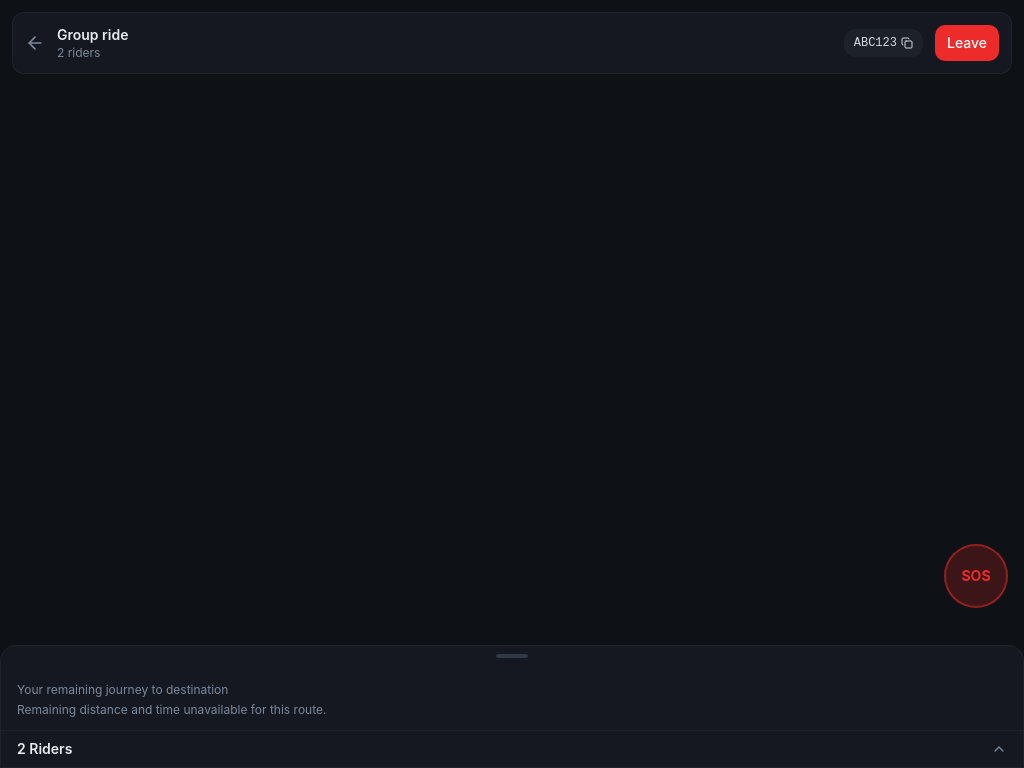
Test: received SOS notifications › sends an off-route alert through the backend instead of only storing it locally
Click the button named "Show riders".
click(999, 749)  # box [991,741,1007,757]
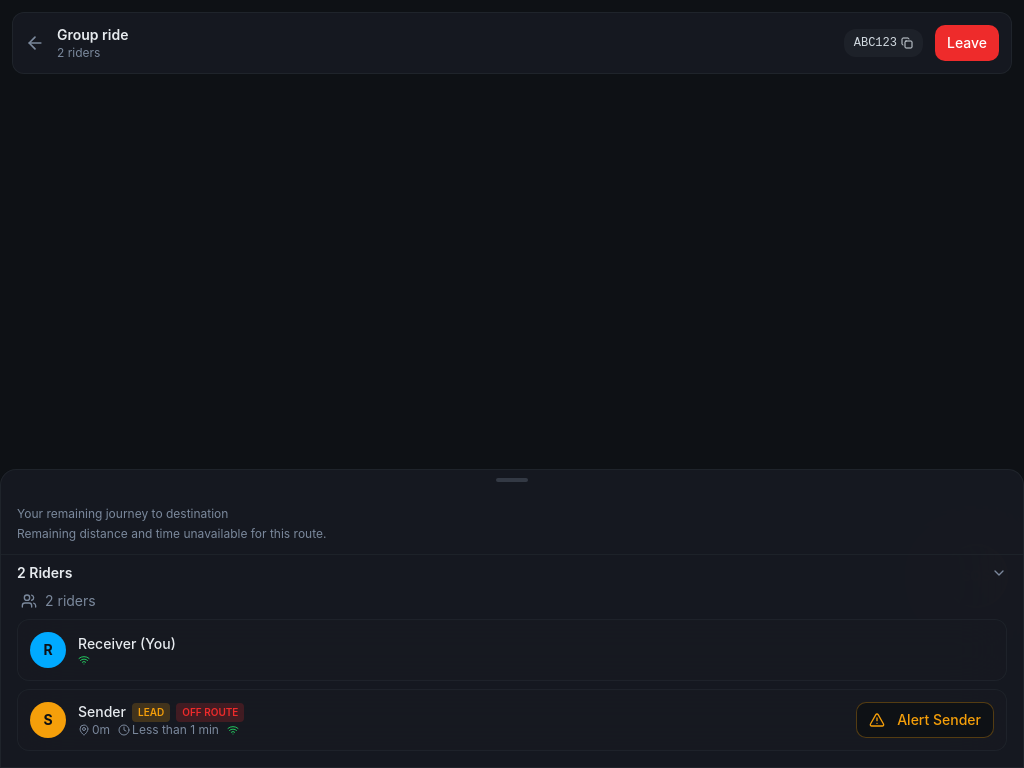
Click the button "Alert Sender".
click(925, 720)  # box [856,702,994,738]
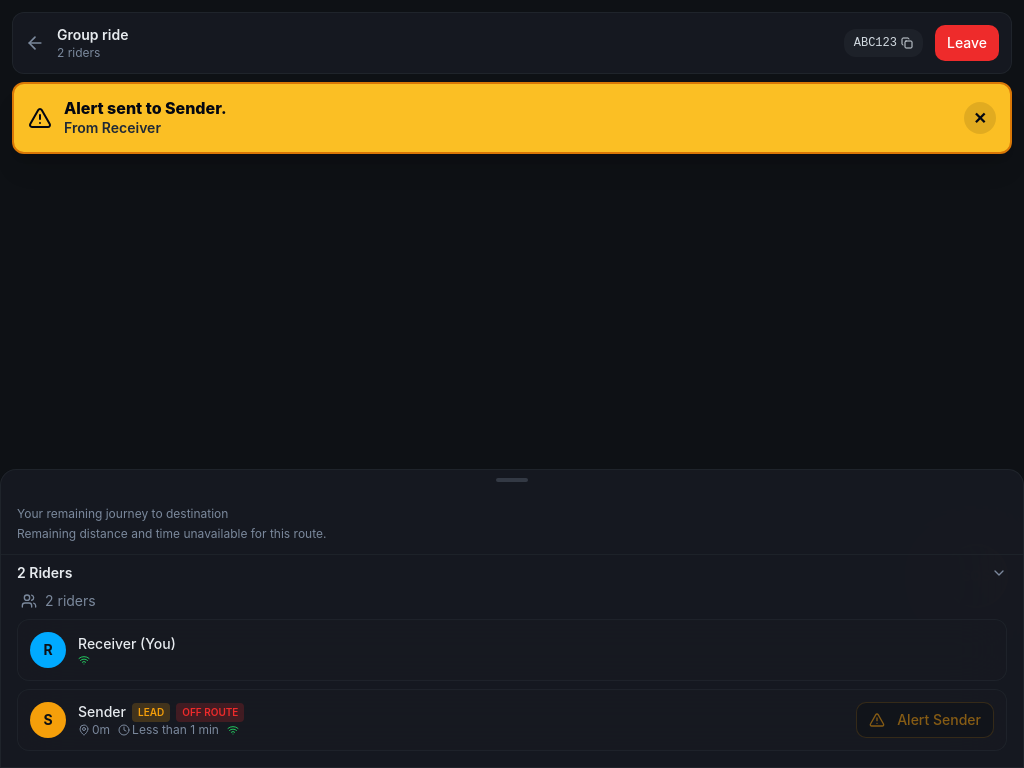
Expected: the text "Alert sent to Sender." is shown, [64,98,226,118]
Expected: the button "Alert Sender" is disabled, [856,702,994,738]
